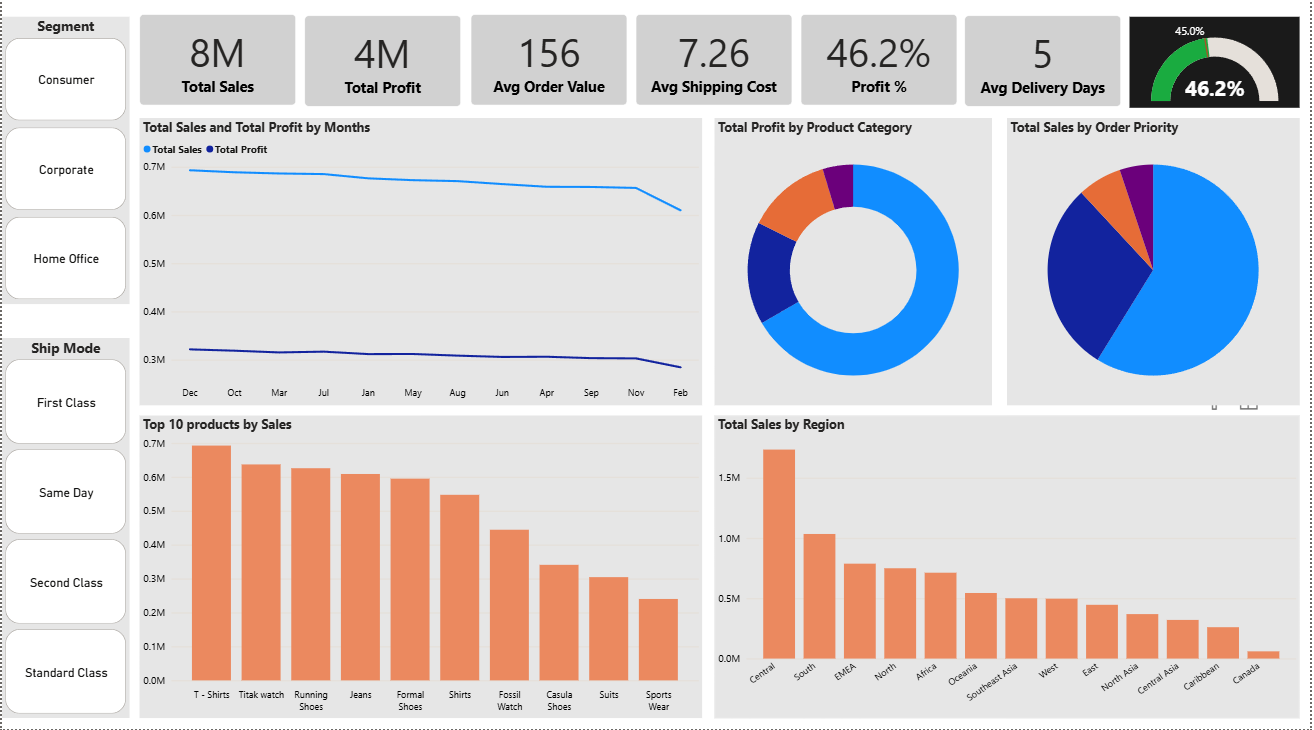

The page's visual inventory and layout, read from the dashboard file:
{"tool":"powerbi","page":{"name":"Dashboard","canvas":[1920,1080],"ordinal":0},"visuals":[{"type":"card","fields":{"Values":["e_commerce_data e_com_data.Total Sales"]},"box":[201.8,31.2,229.3,133.9],"z":0},{"type":"card","fields":{"Values":["e_commerce_data e_com_data.Avg Delivery Time"]},"box":[1412.4,33,229.3,133.9],"z":1000},{"type":"card","fields":{"Values":["e_commerce_data e_com_data.Avg Shipping Cost"]},"box":[930,31.2,229.3,133.9],"z":2000},{"type":"card","fields":{"Values":["e_commerce_data e_com_data.Avg Order Value"]},"box":[687.8,31.2,229.3,133.9],"z":3000},{"type":"card","fields":{"Values":["e_commerce_data e_com_data.Total Profit"]},"box":[443.9,33,229.3,133.9],"z":4000},{"type":"card","fields":{"Values":["e_commerce_data e_com_data.Profit %"]},"box":[1172.1,31.2,229.3,133.9],"z":5000},{"type":"gauge","fields":{"Y":["e_commerce_data e_com_data.Profit %"]},"box":[1654.5,34.9,249.5,133.9],"z":6000},{"type":"lineChart","fields":{"Y":["e_commerce_data e_com_data.Total Sales","e_commerce_data e_com_data.Total Profit"],"Category":["e_commerce_data e_com_data.Months"]},"box":[201.8,183.4,825.4,421.9],"z":7000},{"type":"columnChart","title":"Top 10 products by Sales ","fields":{"Category":["e_commerce_data e_com_data.Product Name"],"Y":["Sum(e_commerce_data e_com_data.Sales)"]},"box":[201.8,620,825.4,443.9],"z":8000},{"type":"donutChart","fields":{"Y":["e_commerce_data e_com_data.Total Profit"],"Category":["e_commerce_data e_com_data.Product Category"]},"box":[1045.5,183.4,407.2,421.9],"z":9000},{"type":"advancedSlicerVisual","fields":{"Values":["e_commerce_data e_com_data.Segment"]},"box":[0,34.9,187.1,421.9],"z":10000},{"type":"advancedSlicerVisual","fields":{"Values":["e_commerce_data e_com_data.Ship Mode"]},"box":[0,506.3,187.1,557.6],"z":11000},{"type":"columnChart","fields":{"Category":["e_commerce_data e_com_data.Region"],"Y":["e_commerce_data e_com_data.Total Sales"]},"box":[1045.5,620,858.4,443.9],"z":12000},{"type":"pieChart","fields":{"Category":["e_commerce_data e_com_data.Order Priority"],"Y":["e_commerce_data e_com_data.Total Sales"]},"box":[1474.7,183.4,429.2,421.9],"z":13000}]}

Visuals, with their boxes in screenshot pixels (x1, y1, x2, y2), scaled from the page's 1920x1080 canvas onto the 1314x730 screenshot:
card - e_commerce_data e_com_data.Total Sales: [left=138, top=21, right=295, bottom=112]
card - e_commerce_data e_com_data.Avg Delivery Time: [left=967, top=22, right=1124, bottom=113]
card - e_commerce_data e_com_data.Avg Shipping Cost: [left=636, top=21, right=793, bottom=112]
card - e_commerce_data e_com_data.Avg Order Value: [left=471, top=21, right=628, bottom=112]
card - e_commerce_data e_com_data.Total Profit: [left=304, top=22, right=461, bottom=113]
card - e_commerce_data e_com_data.Profit %: [left=802, top=21, right=959, bottom=112]
gauge - e_commerce_data e_com_data.Profit %: [left=1132, top=24, right=1303, bottom=114]
lineChart - e_commerce_data e_com_data.Total Sales x e_commerce_data e_com_data.Total Profit: [left=138, top=124, right=703, bottom=409]
"Top 10 products by Sales " columnChart: [left=138, top=419, right=703, bottom=719]
donutChart - e_commerce_data e_com_data.Total Profit x e_commerce_data e_com_data.Product Category: [left=716, top=124, right=994, bottom=409]
advancedSlicerVisual - e_commerce_data e_com_data.Segment: [left=0, top=24, right=128, bottom=309]
advancedSlicerVisual - e_commerce_data e_com_data.Ship Mode: [left=0, top=342, right=128, bottom=719]
columnChart - e_commerce_data e_com_data.Region x e_commerce_data e_com_data.Total Sales: [left=716, top=419, right=1303, bottom=719]
pieChart - e_commerce_data e_com_data.Order Priority x e_commerce_data e_com_data.Total Sales: [left=1009, top=124, right=1303, bottom=409]
